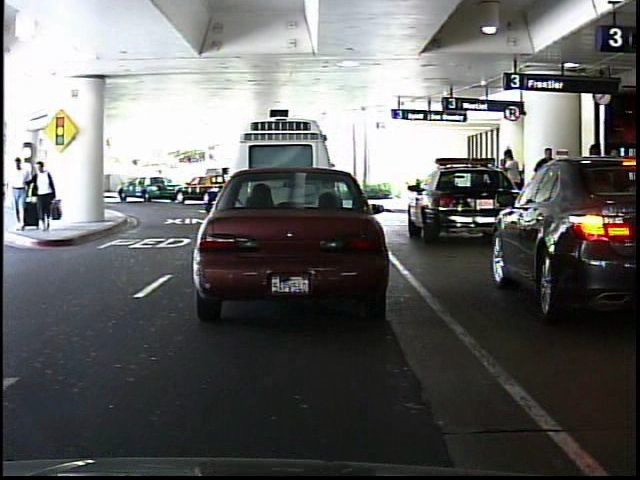person: (496, 145, 527, 230), (29, 156, 57, 233), (7, 154, 31, 231), (151, 166, 169, 200)
